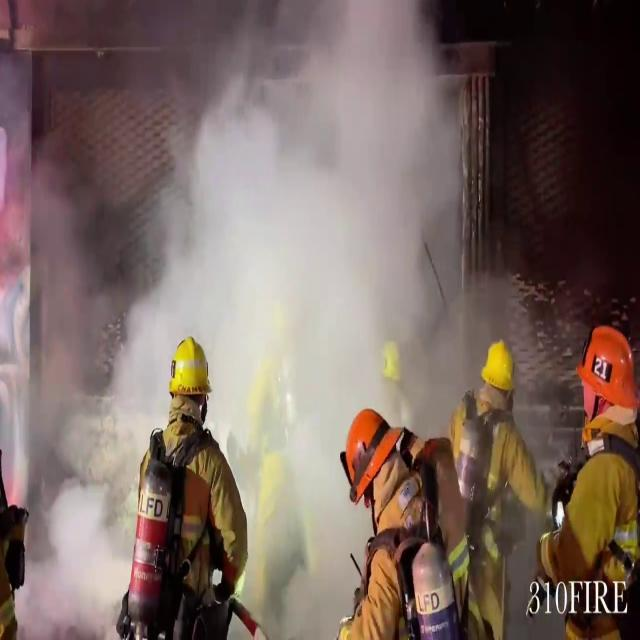Smoke: (2, 1, 518, 630)
